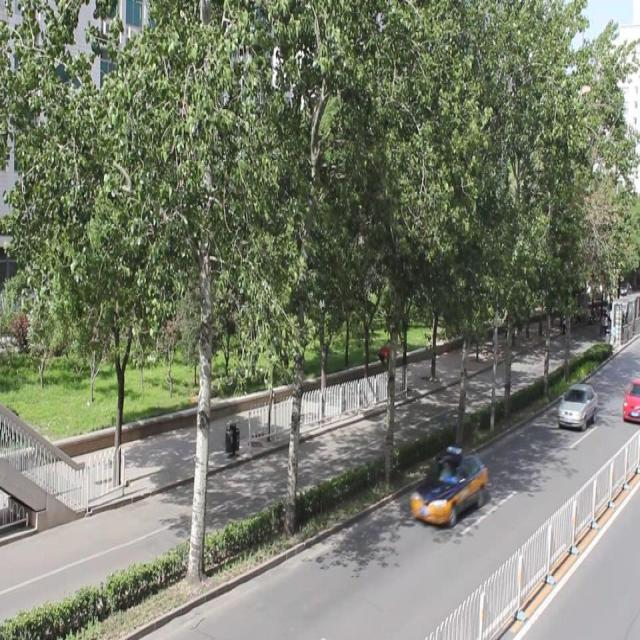car: (409, 452, 483, 523), (557, 382, 594, 428)
